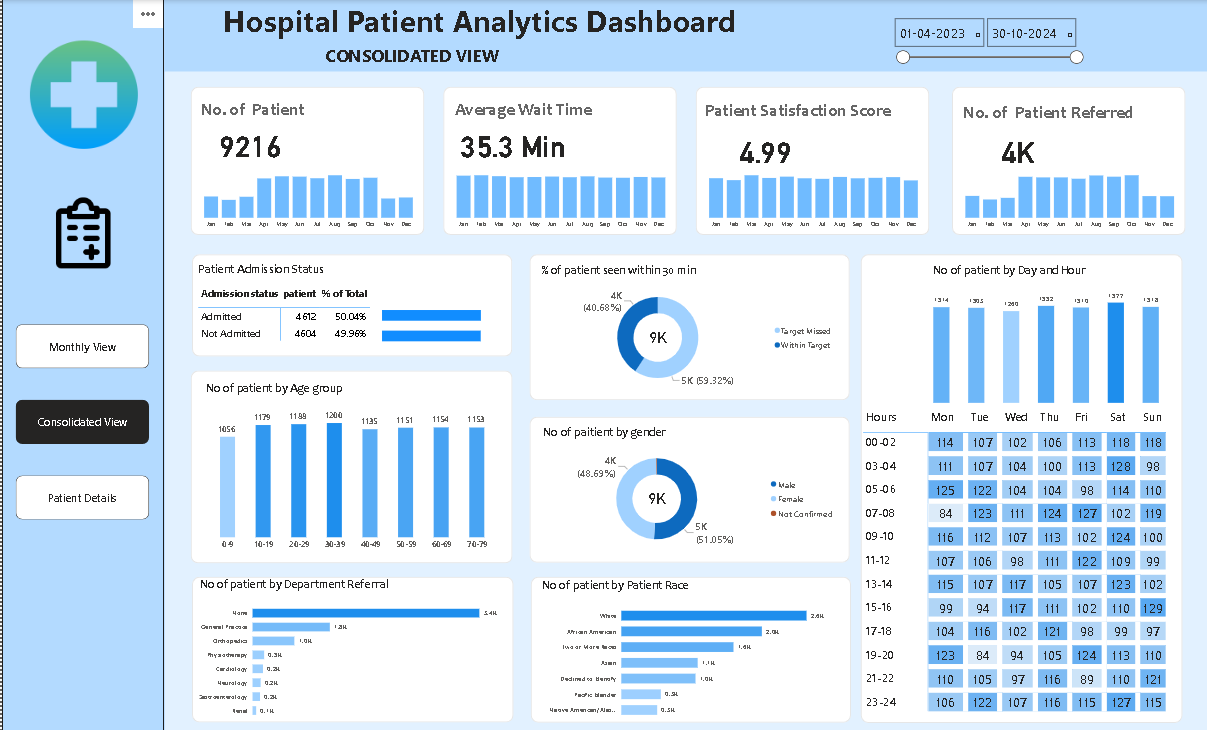

What the dashboard file says about the page in this screenshot:
{"tool":"powerbi","page":{"name":"Consolidated View","canvas":[2300,1400],"ordinal":1},"visuals":[{"type":"shape","box":[0,0,310,1400],"z":0},{"type":"shape","box":[309.6,0,1990.7,140],"z":1000},{"type":"textbox","box":[309.6,0,1990.7,140.3],"z":2000},{"type":"textbox","box":[586,84,390,56],"z":3000},{"type":"shape","box":[360,170,445,282.5],"z":4000},{"type":"cardVisual","fields":{"Data":["Hospital ER_Data.No of patient"]},"box":[340,222.5,265,122.5],"z":5000},{"type":"slicer","fields":{"Values":["Data Table.Date"]},"box":[1688,30,380,102],"z":6000},{"type":"textbox","box":[360,187.5,355,67.5],"z":7000},{"type":"columnChart","fields":{"Category":["Data Table.Month Name"],"Y":["Hospital ER_Data.No of patient"]},"box":[366.8,323.5,435,125],"z":8000},{"type":"shape","box":[840,170,445,282.5],"z":9000},{"type":"cardVisual","fields":{"Data":["Hospital ER_Data.Average wait time"]},"box":[840,222.5,265,122.5],"z":10000},{"type":"textbox","box":[850,187.5,355,67.5],"z":11000},{"type":"columnChart","fields":{"Category":["Data Table.Month Name"],"Y":["Avg(Hospital ER_Data.Patient Waittime)"]},"box":[846.8,323.5,435,125],"z":12000},{"type":"shape","box":[1322.5,170,445,282.5],"z":13000},{"type":"cardVisual","fields":{"Data":["Avg(Hospital ER_Data.Patient Satisfaction Score)"]},"box":[1322.5,232.5,265,122.5],"z":14000},{"type":"textbox","box":[1332.5,190,377.5,67.5],"z":15000},{"type":"columnChart","fields":{"Category":["Data Table.Month Name"],"Y":["Avg(Hospital ER_Data.Patient Satisfaction Score)"]},"box":[1329.3,323.5,435,125],"z":16000},{"type":"shape","box":[1810,170,445,282.5],"z":17000},{"type":"cardVisual","fields":{"Data":["Hospital ER_Data.No of Referred"]},"box":[1802.5,232.5,265,122.5],"z":18000},{"type":"textbox","box":[1820,192.5,355,67.5],"z":19000},{"type":"columnChart","fields":{"Category":["Data Table.Month Name"],"Y":["Hospital ER_Data.No of Referred"]},"box":[1816.8,323.5,435,125],"z":20000},{"type":"shape","box":[362.5,487.5,610,195],"z":21000},{"type":"pivotTable","title":"Patient Admission Status","fields":{"Rows":["Hospital ER_Data.Admission status"],"Values":["Hospital ER_Data.No of patient","Divide(Hospital ER_Data.No of patient, ScopedEval(Hospital ER_Data.No of patient, []))"]},"box":[370,503,589,180],"z":22000},{"type":"barChart","fields":{"Category":["Hospital ER_Data.Admission status"],"Y":["Hospital ER_Data.No of patient"]},"box":[720,562.5,255,120],"z":23000},{"type":"shape","box":[360,708.8,613,367.4],"z":24000},{"type":"clusteredColumnChart","fields":{"Category":["Hospital ER_Data.Age group"],"Y":["Hospital ER_Data.No of patient"]},"box":[382.5,727.5,569.6,332.6],"z":25000},{"type":"shape","box":[362.5,1102.5,612.5,277.5],"z":26000},{"type":"clusteredBarChart","fields":{"Category":["Hospital ER_Data.Department Referral"],"Y":["Hospital ER_Data.No of patient"]},"box":[372,1102,591,279],"z":27000},{"type":"shape","box":[1004,488,610,278],"z":28000},{"type":"donutChart","title":"% of patient seen within 30 min","fields":{"Category":["Hospital ER_Data.Waittime status"],"Y":["Hospital ER_Data.No of patient"]},"box":[1024,504,570,246],"z":29000},{"type":"shape","box":[1005.5,798.2,610,278],"z":30000},{"type":"donutChart","title":"No of paitient by gender","fields":{"Category":["Hospital ER_Data.Patient Gender"],"Y":["Hospital ER_Data.No of patient"]},"box":[1025.5,812.7,570,246],"z":31000},{"type":"shape","box":[1007.3,1101.8,610,278],"z":32000},{"type":"clusteredBarChart","fields":{"Category":["Hospital ER_Data.Patient Race"],"Y":["Hospital ER_Data.No of patient"]},"box":[1023.6,1103.6,572.7,278.2],"z":33000},{"type":"shape","box":[1636.4,487.3,612.7,892.7],"z":34000},{"type":"pivotTable","title":"% of patient seen within 30 min","fields":{"Columns":["Data Table.Day column"],"Rows":["Hospital ER_Data.Waittime Interval"],"Values":["Hospital ER_Data.No of patient"]},"box":[1636.4,776.4,609.1,600],"z":35000},{"type":"columnChart","title":"No of patient by Day and Hour","fields":{"Category":["Data Table.Day column"],"Y":["Hospital ER_Data.No of patient"]},"box":[1768,504,442,272],"z":36000},{"type":"image","box":[50,80,212,206],"z":37000},{"type":"image","box":[54.3,365.2,200,166.7],"z":38000},{"type":"pageNavigator","box":[26.1,621.7,254.3,373.9],"z":38001}]}

Visuals, with their boxes on the page's 2300x1400 design canvas (x1, y1, x2, y2). These are canvas units, not pixel positions in the 1207x730 screenshot, which may show the page scaled, cropped or inside an application window:
shape: box=[0, 0, 310, 1400]
shape: box=[310, 0, 2300, 140]
textbox: box=[310, 0, 2300, 140]
textbox: box=[586, 84, 976, 140]
shape: box=[360, 170, 805, 452]
cardVisual - Hospital ER_Data.No of patient: box=[340, 222, 605, 345]
slicer - Data Table.Date: box=[1688, 30, 2068, 132]
textbox: box=[360, 188, 715, 255]
columnChart - Data Table.Month Name x Hospital ER_Data.No of patient: box=[367, 324, 802, 448]
shape: box=[840, 170, 1285, 452]
cardVisual - Hospital ER_Data.Average wait time: box=[840, 222, 1105, 345]
textbox: box=[850, 188, 1205, 255]
columnChart - Data Table.Month Name x Avg(Hospital ER_Data.Patient Waittime): box=[847, 324, 1282, 448]
shape: box=[1322, 170, 1768, 452]
cardVisual - Avg(Hospital ER_Data.Patient Satisfaction Score): box=[1322, 232, 1588, 355]
textbox: box=[1332, 190, 1710, 258]
columnChart - Data Table.Month Name x Avg(Hospital ER_Data.Patient Satisfaction Score): box=[1329, 324, 1764, 448]
shape: box=[1810, 170, 2255, 452]
cardVisual - Hospital ER_Data.No of Referred: box=[1802, 232, 2068, 355]
textbox: box=[1820, 192, 2175, 260]
columnChart - Data Table.Month Name x Hospital ER_Data.No of Referred: box=[1817, 324, 2252, 448]
shape: box=[362, 488, 972, 682]
"Patient Admission Status" pivotTable: box=[370, 503, 959, 683]
barChart - Hospital ER_Data.Admission status x Hospital ER_Data.No of patient: box=[720, 562, 975, 682]
shape: box=[360, 709, 973, 1076]
clusteredColumnChart - Hospital ER_Data.Age group x Hospital ER_Data.No of patient: box=[382, 728, 952, 1060]
shape: box=[362, 1102, 975, 1380]
clusteredBarChart - Hospital ER_Data.Department Referral x Hospital ER_Data.No of patient: box=[372, 1102, 963, 1381]
shape: box=[1004, 488, 1614, 766]
"% of patient seen within 30 min" donutChart: box=[1024, 504, 1594, 750]
shape: box=[1006, 798, 1616, 1076]
"No of paitient by gender" donutChart: box=[1026, 813, 1596, 1059]
shape: box=[1007, 1102, 1617, 1380]
clusteredBarChart - Hospital ER_Data.Patient Race x Hospital ER_Data.No of patient: box=[1024, 1104, 1596, 1382]
shape: box=[1636, 487, 2249, 1380]
"% of patient seen within 30 min" pivotTable: box=[1636, 776, 2246, 1376]
"No of patient by Day and Hour" columnChart: box=[1768, 504, 2210, 776]
image: box=[50, 80, 262, 286]
image: box=[54, 365, 254, 532]
pageNavigator: box=[26, 622, 280, 996]
